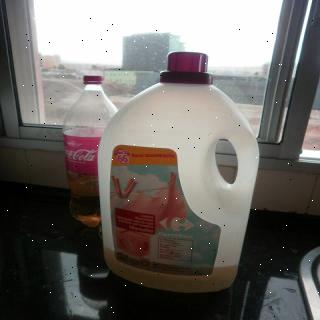Plastic-bottle: (61, 73, 121, 231)
